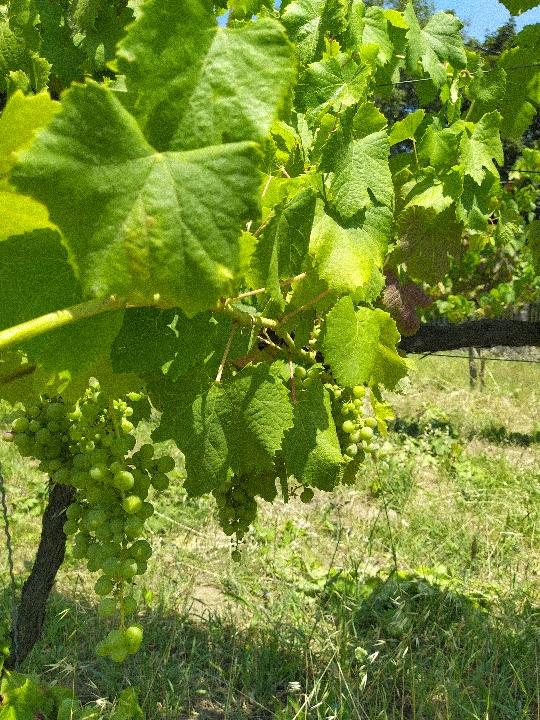grape: (8, 388, 183, 668)
